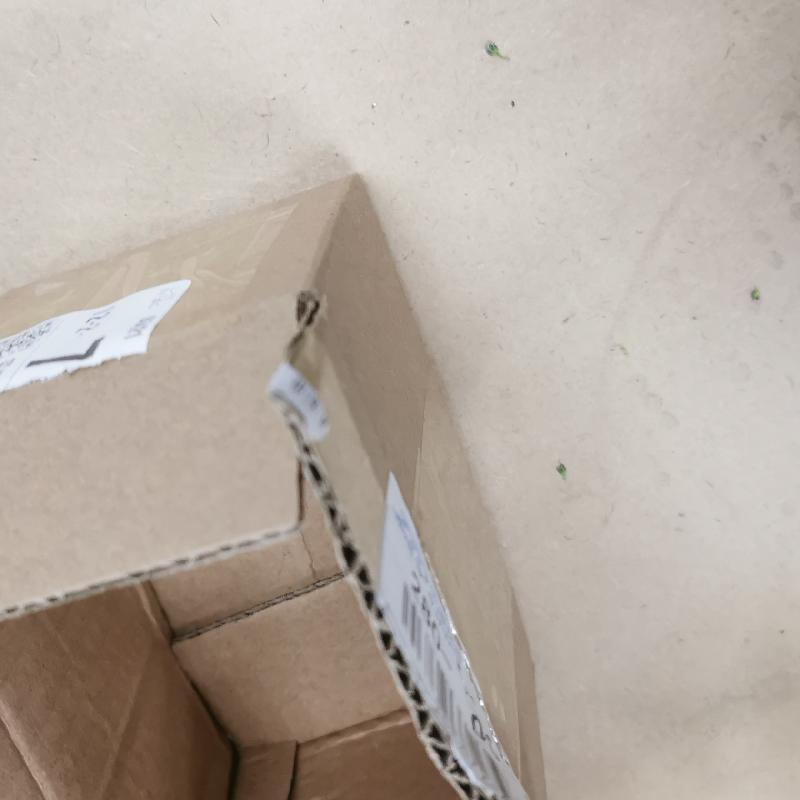boxes: (2, 166, 553, 800)
